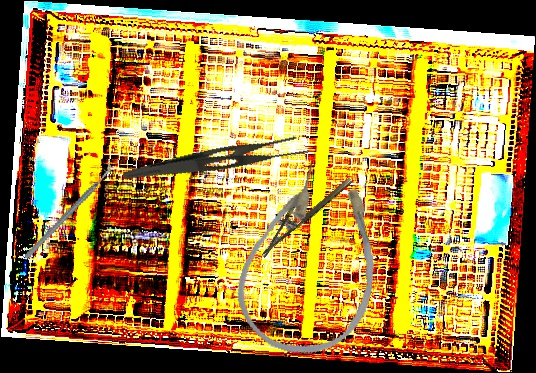Cannula: (223, 152, 403, 370)
Chopper: (2, 159, 135, 261)
Dressing Forceps: (122, 125, 310, 201)
Needle Holder: (249, 165, 354, 258)
